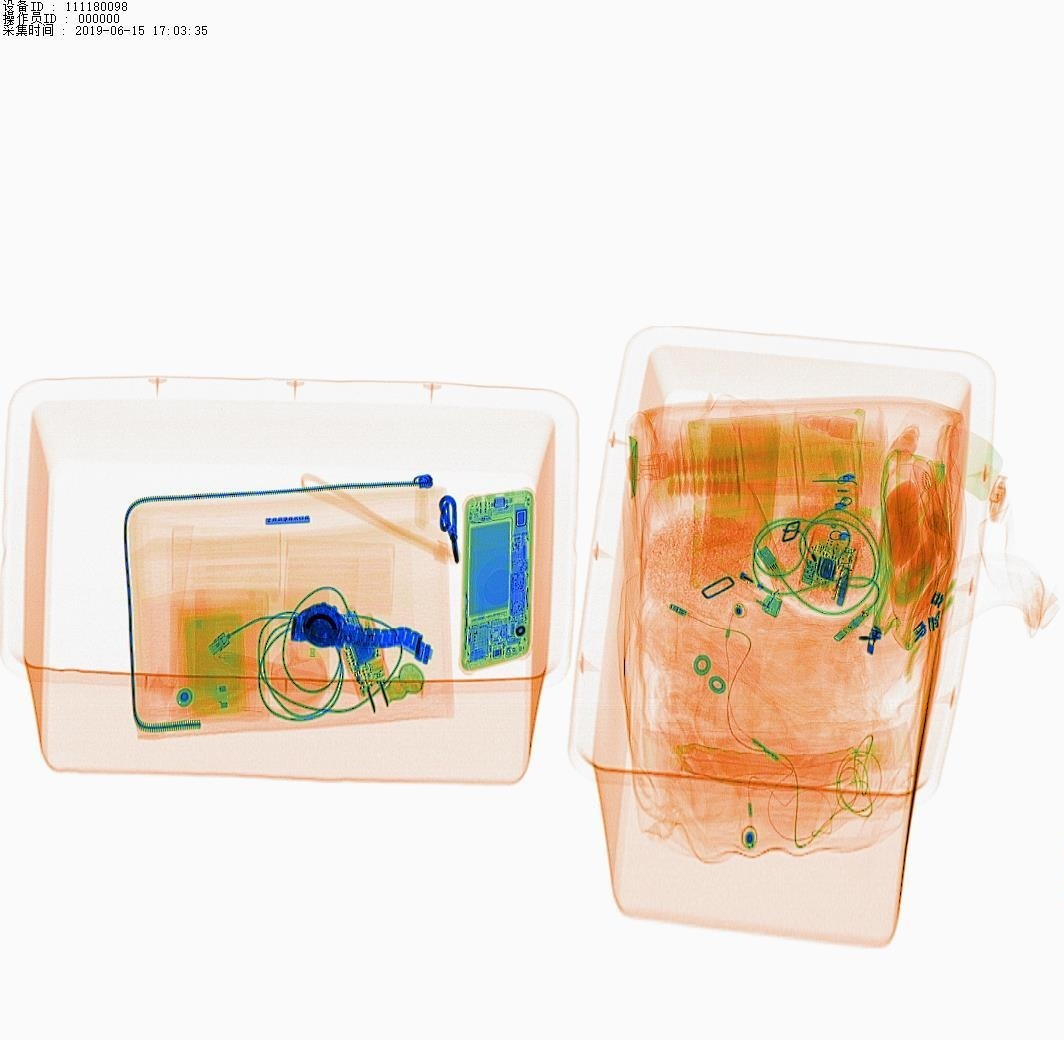NonmetallicFire: (700, 550, 804, 640)
